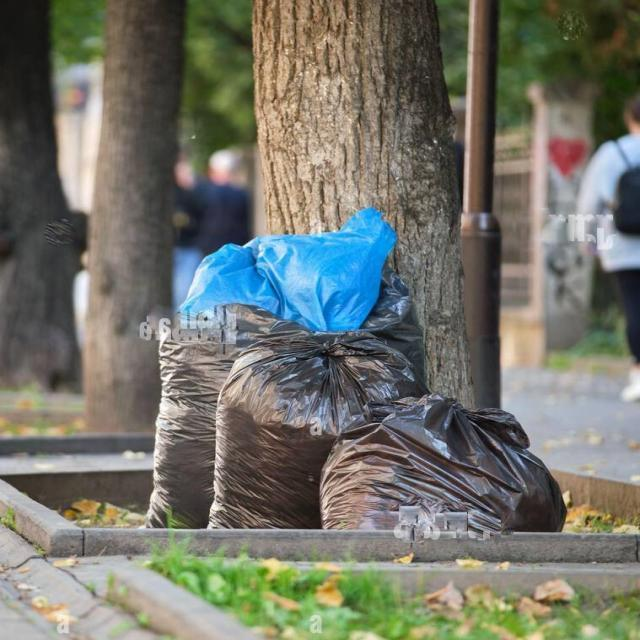garbage: (146, 204, 561, 554)
